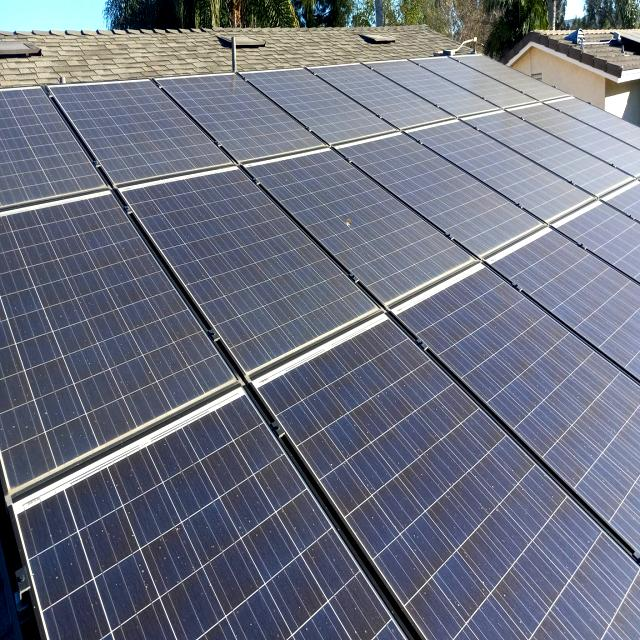dust: (32, 510, 270, 640), (5, 236, 132, 417), (329, 346, 434, 518), (431, 506, 558, 640), (470, 312, 609, 419), (198, 189, 264, 309), (163, 431, 275, 491)
